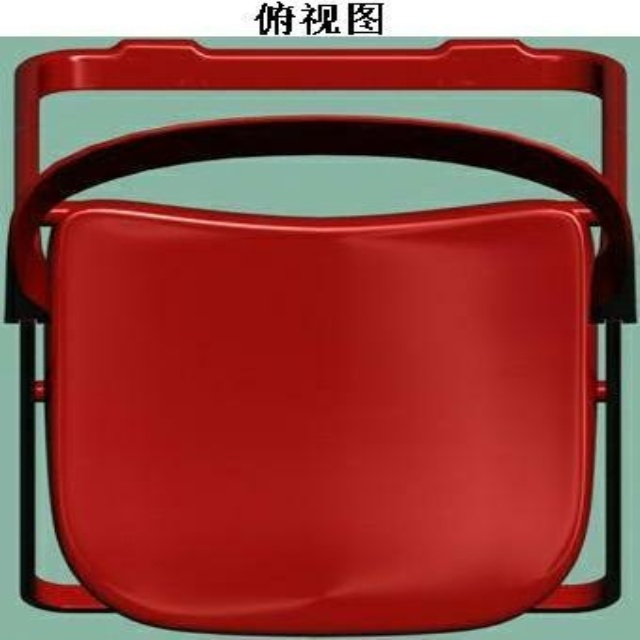obstacle: (8, 40, 631, 632)
